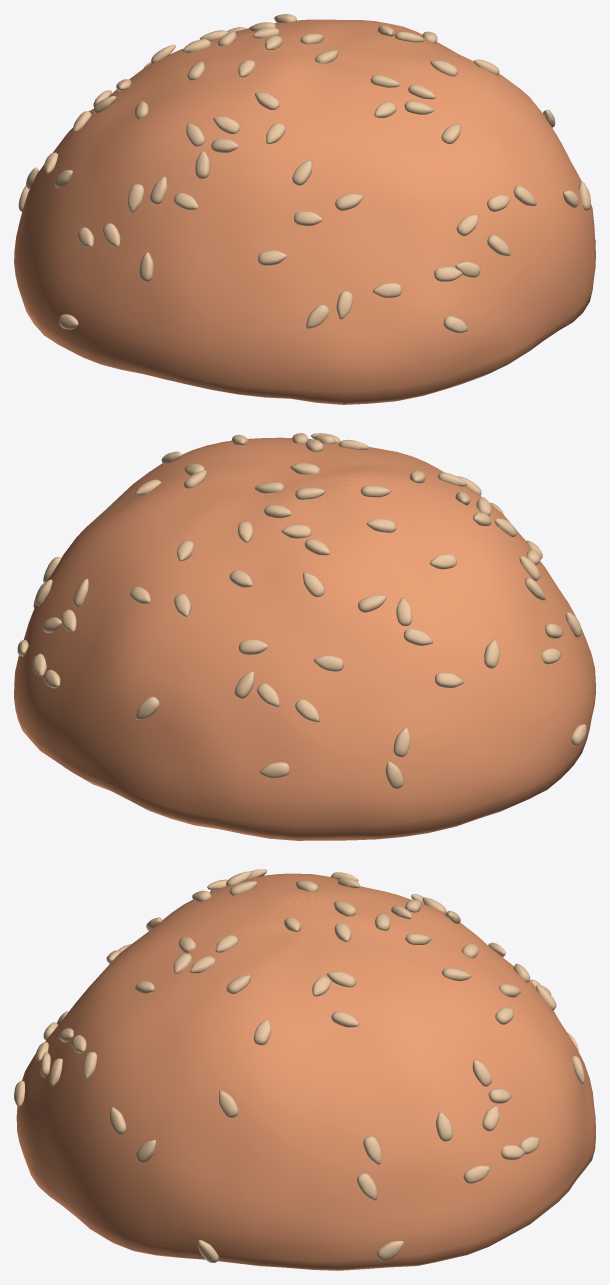
File: BunTop.fbx
3 views of the same model, one above another, from view 1: azimuth 30°, elevation 25°; view 2: azimuth 150°, elevation 25°; view 3: azimuth 270°, elevation 25° (orthographic). The views are drawn at different scales.
Parts seen in each view (by area): view 1: HamburgerBunTop; view 2: HamburgerBunTop; view 3: HamburgerBunTop.
Part boxes in pixels (x1,y1,x2,y2): HamburgerBunTop: [14, 14, 595, 404]; HamburgerBunTop: [14, 433, 595, 840]; HamburgerBunTop: [14, 869, 595, 1270].
Bounding box in the file's own units: 11.05 × 5.41 × 10.92.
